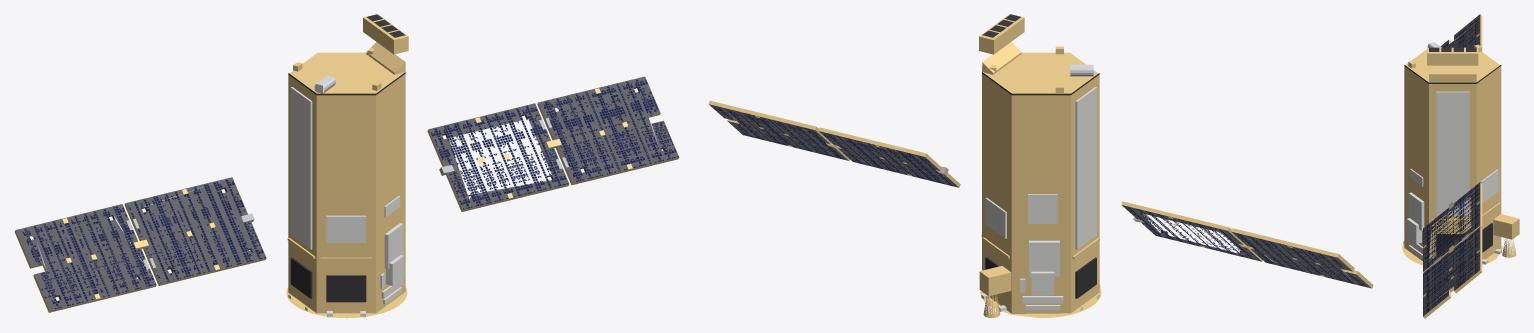
File: oco2.glb
The picture shows the model from 3 angles, left to right: view 1: azimuth 30°, elevation 25°; view 2: azimuth 150°, elevation 25°; view 3: azimuth 270°, elevation 25°; orthographic projection. The views are drawn at different scales.
Visible parts, largest first — view 1: Layer_0; view 2: Layer_0; view 3: Layer_0.
Part boxes in pixels (left/top/right/bottom): Layer_0: left=14, top=14, right=679, bottom=318; Layer_0: left=708, top=14, right=1373, bottom=318; Layer_0: left=1402, top=14, right=1519, bottom=318.
Bounding box in the file's own units: 0.987 × 0.3864 × 0.1913.
Materials: 8 (1 with a texture image).
